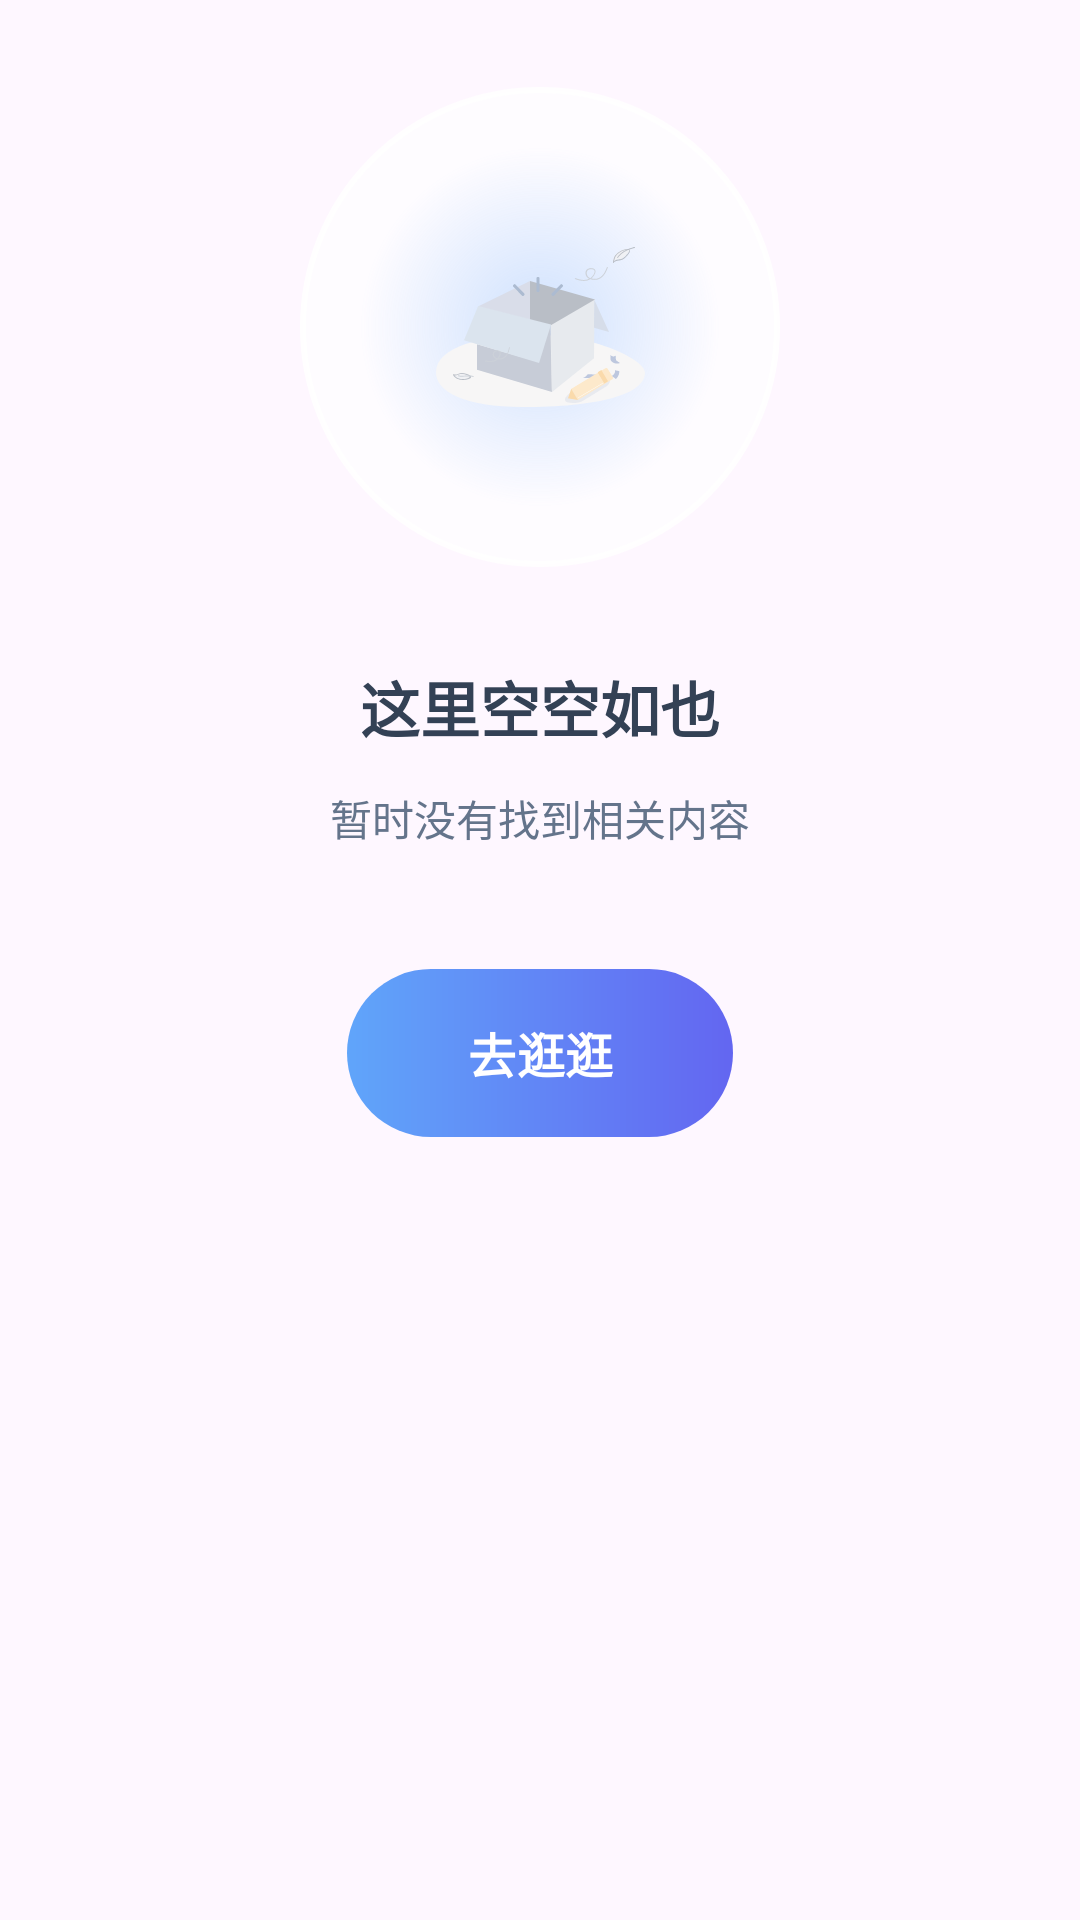

Screen size 1080px x 1920px. Icon name, then its box in pixels as (x1, y1, x2, y2):
state empty: (453, 247, 635, 400)
